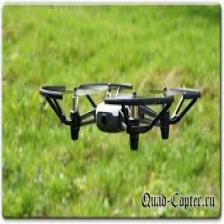drone: (41, 83, 199, 142)
